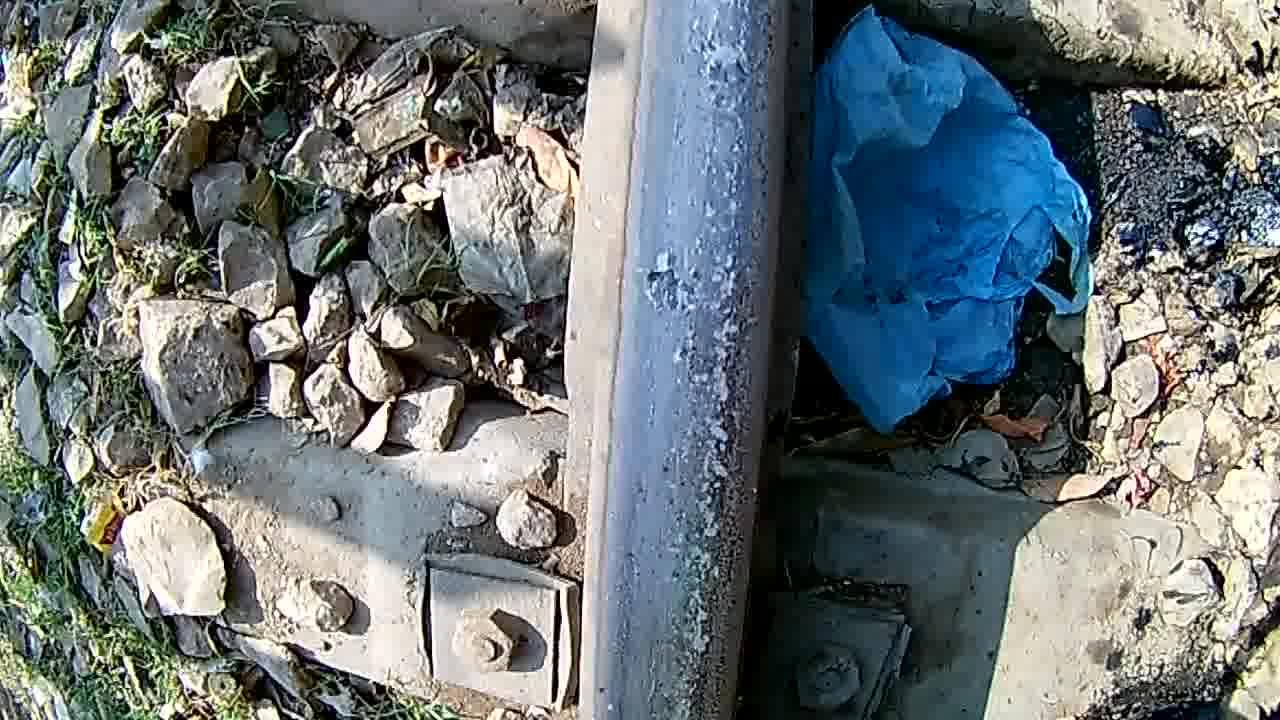crack: (609, 2, 797, 719)
